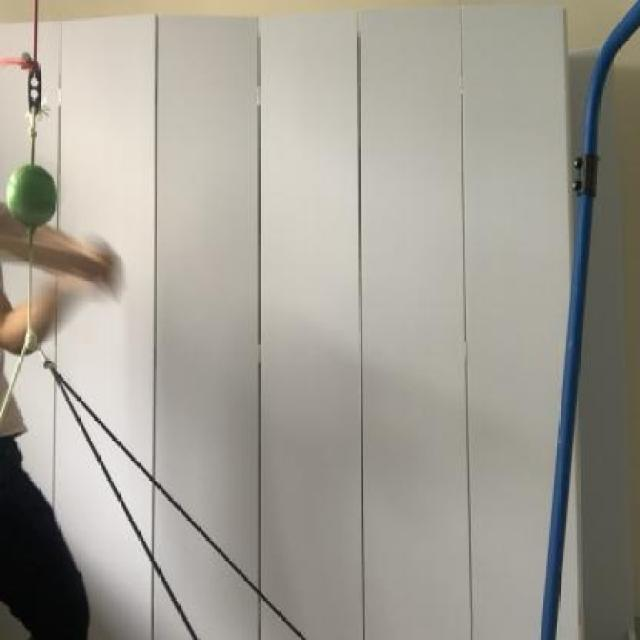baseball: (3, 154, 68, 246)
